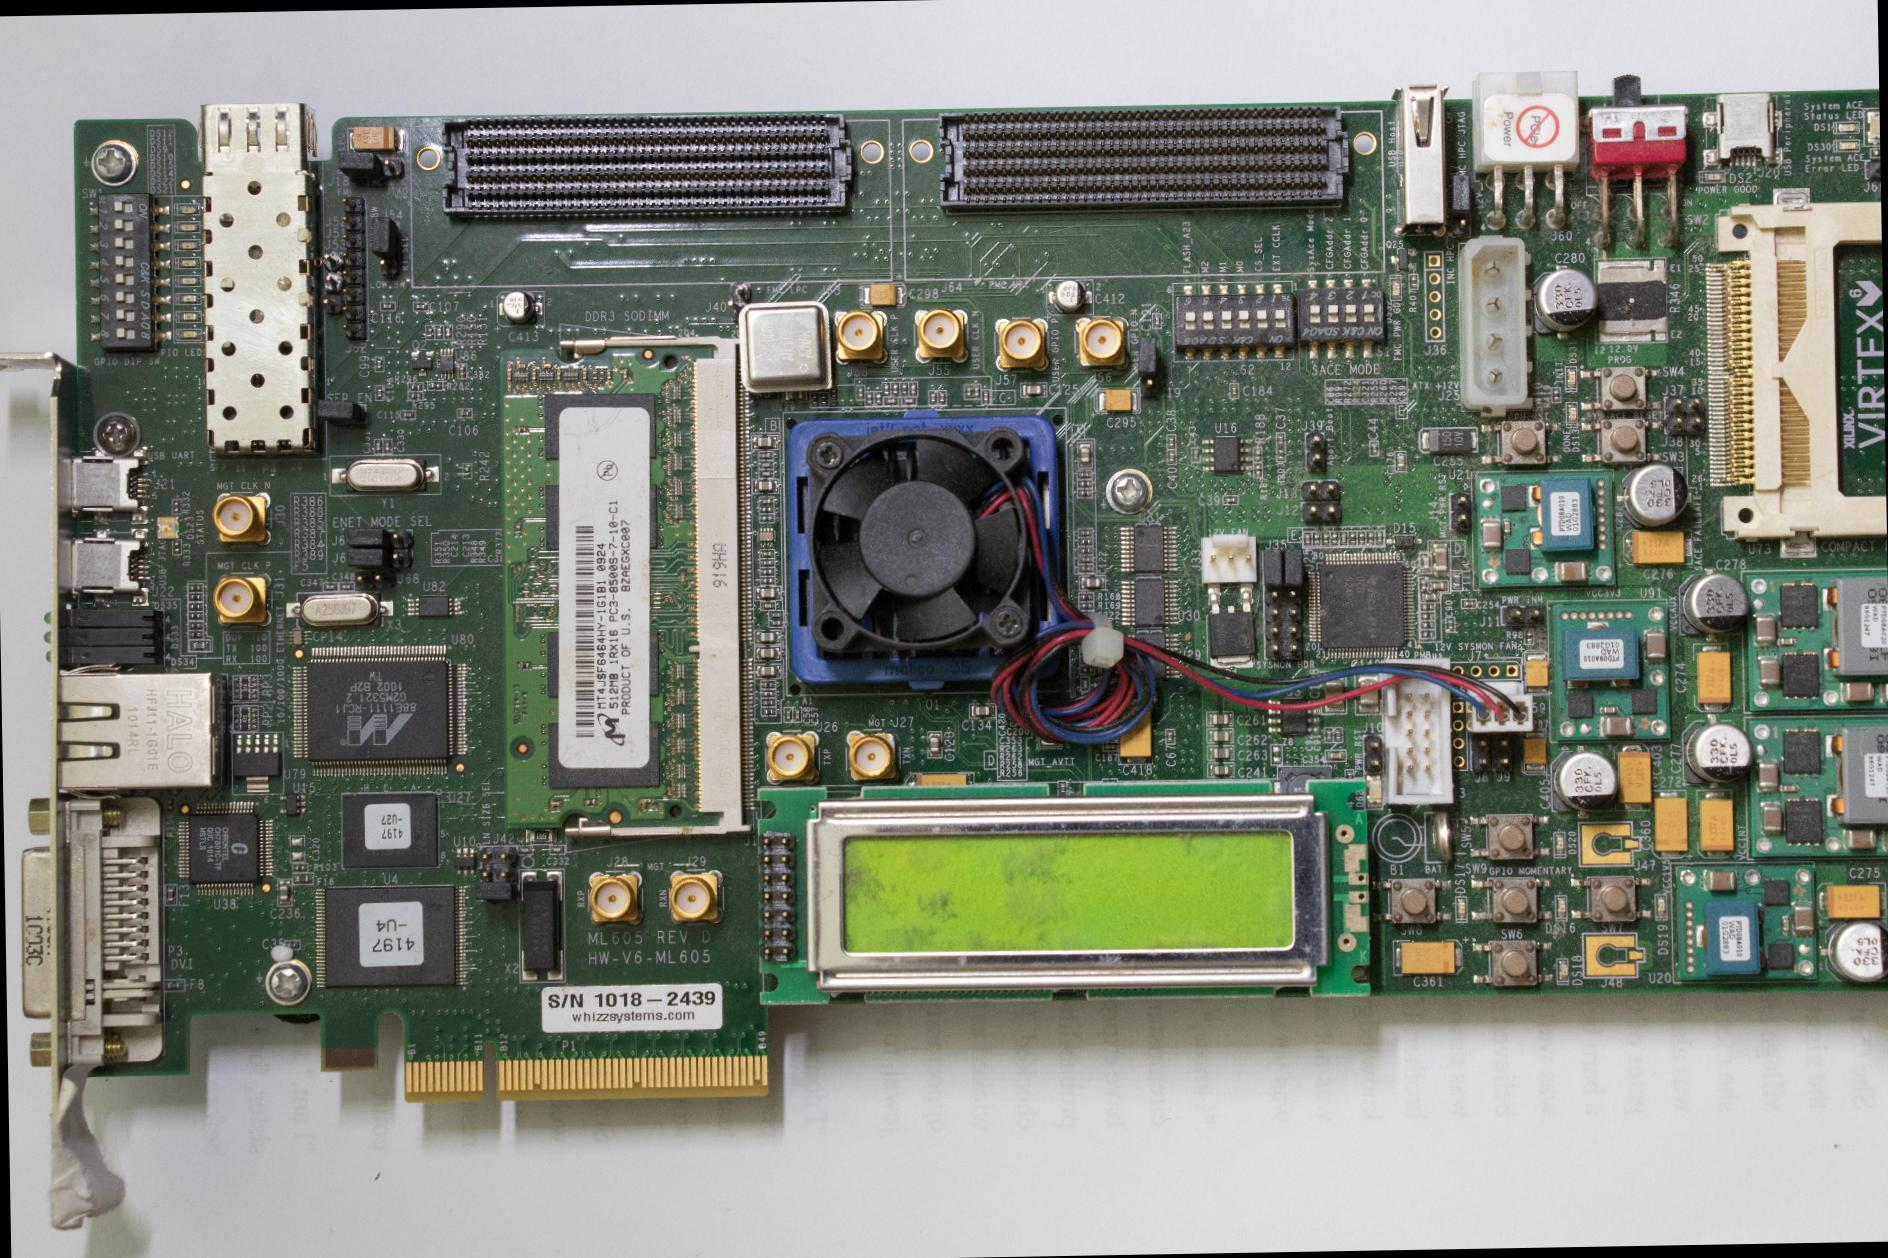Battery: (1369, 811, 1450, 864)
Button: (1568, 876, 1650, 922), (1468, 815, 1550, 860), (1480, 420, 1560, 466), (1472, 940, 1552, 986), (1580, 366, 1658, 410), (1580, 418, 1658, 462), (1470, 878, 1550, 920), (1378, 878, 1450, 922)
Capacitor: (1352, 668, 1381, 712), (1318, 671, 1346, 713), (1758, 800, 1782, 836), (1838, 680, 1876, 702), (1598, 715, 1634, 738), (1758, 760, 1782, 794), (1553, 560, 1589, 582), (1790, 900, 1812, 936), (1642, 630, 1665, 664), (1756, 654, 1779, 688), (1842, 826, 1876, 849), (1752, 614, 1775, 647), (1479, 517, 1500, 552), (1703, 869, 1736, 890), (752, 662, 780, 680), (1067, 392, 1083, 420), (752, 585, 780, 601), (752, 629, 780, 645), (752, 645, 779, 661), (276, 878, 291, 906), (1206, 710, 1232, 726), (750, 435, 777, 450), (750, 478, 778, 492), (1020, 382, 1046, 397), (1078, 576, 1104, 590), (1206, 728, 1232, 742), (926, 728, 940, 754), (1206, 746, 1232, 760), (1206, 762, 1232, 776), (967, 705, 994, 718), (1392, 449, 1406, 471), (288, 630, 304, 646), (1324, 749, 1345, 761), (372, 355, 384, 373), (782, 391, 806, 400), (454, 407, 472, 418), (1879, 681, 1887, 705), (1613, 698, 1632, 708), (1780, 915, 1789, 936), (1879, 828, 1887, 851), (1228, 382, 1238, 400), (1780, 783, 1800, 792), (1100, 741, 1116, 752), (378, 300, 395, 310), (410, 301, 427, 311), (382, 437, 392, 454), (1368, 440, 1378, 457), (1458, 599, 1475, 609), (782, 705, 792, 722), (1776, 637, 1794, 646), (1274, 431, 1284, 447), (338, 582, 354, 592), (1444, 616, 1454, 632), (1164, 728, 1174, 744), (549, 845, 565, 855), (1151, 312, 1160, 329), (283, 940, 300, 949), (1166, 435, 1176, 450), (1192, 444, 1202, 459), (1322, 728, 1332, 743), (456, 362, 465, 378), (398, 410, 414, 419), (373, 438, 382, 454), (1383, 529, 1392, 545), (374, 386, 384, 400), (1166, 450, 1176, 464), (1332, 728, 1342, 742), (792, 705, 800, 722), (1338, 531, 1346, 547), (322, 582, 336, 591), (518, 845, 532, 854)
Clock: (738, 299, 830, 392), (517, 868, 563, 984), (329, 454, 440, 495), (284, 590, 392, 626)
Connector: (1706, 186, 1886, 560), (406, 107, 888, 225), (901, 100, 1378, 216), (3, 790, 181, 1076), (198, 102, 320, 458), (48, 670, 228, 790), (938, 536, 1052, 700), (1458, 234, 1534, 418), (1378, 665, 1450, 811), (1395, 82, 1447, 237), (70, 528, 148, 607), (70, 446, 147, 526), (1701, 92, 1780, 164), (757, 830, 794, 964), (338, 195, 368, 341), (1201, 534, 1255, 604), (1466, 680, 1531, 732), (210, 492, 270, 547), (212, 572, 272, 627), (912, 308, 968, 364), (1072, 315, 1128, 371), (832, 310, 888, 365), (668, 868, 721, 926), (993, 316, 1048, 371), (764, 730, 818, 786), (586, 870, 640, 926), (846, 728, 898, 782), (1262, 589, 1300, 659), (1422, 250, 1444, 341), (1298, 480, 1340, 521), (1468, 732, 1512, 771), (1662, 395, 1703, 433), (478, 846, 518, 880), (1449, 695, 1465, 771), (1450, 664, 1521, 680), (388, 530, 412, 570), (1450, 497, 1474, 536), (1501, 605, 1543, 627), (1360, 734, 1381, 776), (1303, 432, 1325, 471), (350, 571, 392, 591), (728, 282, 750, 318), (320, 290, 342, 314), (318, 249, 342, 270), (321, 270, 343, 292), (379, 156, 401, 177), (1138, 376, 1158, 397), (376, 257, 398, 276), (1864, 158, 1879, 180)
Diode: (1386, 534, 1422, 548)
Display: (754, 776, 1374, 1008)
Electrolytic Capacitor: (1682, 713, 1752, 788), (1530, 265, 1599, 339), (1679, 570, 1748, 635), (1818, 919, 1887, 983), (1622, 465, 1690, 528), (1551, 749, 1616, 814), (1690, 642, 1732, 712), (1817, 882, 1885, 920), (1392, 940, 1462, 976), (1614, 742, 1651, 810), (1651, 790, 1688, 858), (1696, 790, 1733, 857), (1622, 528, 1690, 564), (1115, 699, 1151, 764), (1048, 276, 1106, 315), (496, 291, 543, 326), (347, 124, 402, 152), (1425, 426, 1483, 452), (1522, 649, 1548, 694), (1520, 730, 1546, 775), (1094, 388, 1138, 414), (407, 314, 454, 338)
Ferrite Bead: (163, 883, 176, 906), (292, 873, 314, 884), (162, 980, 184, 991), (188, 640, 208, 650)
IC: (784, 419, 1070, 706), (293, 646, 468, 776), (312, 886, 469, 988), (1306, 552, 1413, 657), (340, 790, 439, 868), (1822, 574, 1887, 678), (1829, 723, 1887, 828), (1699, 742, 1761, 821), (230, 730, 282, 794), (1118, 524, 1176, 573), (1120, 576, 1177, 625), (1124, 632, 1180, 681), (1778, 582, 1817, 632), (1266, 698, 1319, 734), (1200, 436, 1252, 472), (1782, 798, 1822, 844), (1780, 728, 1818, 772), (1782, 654, 1818, 700), (406, 594, 464, 618), (1761, 878, 1788, 906), (1566, 692, 1594, 718), (1767, 942, 1793, 970), (1501, 478, 1526, 506), (1630, 689, 1656, 715), (1504, 548, 1528, 574), (278, 794, 306, 816), (454, 848, 474, 875), (439, 348, 454, 379)
Jumper: (470, 880, 520, 905), (334, 152, 378, 180), (316, 399, 364, 424), (368, 216, 397, 255), (346, 526, 388, 550), (344, 547, 389, 569), (1450, 173, 1469, 214), (1138, 337, 1159, 374), (1282, 550, 1302, 588)
Led: (40, 606, 164, 668), (1862, 108, 1879, 147), (154, 516, 178, 540), (172, 236, 201, 254), (172, 202, 200, 216), (172, 220, 200, 234), (172, 256, 200, 270), (1552, 831, 1566, 858), (174, 274, 200, 288), (176, 309, 202, 323), (1453, 895, 1467, 921), (1564, 365, 1577, 392), (1555, 958, 1568, 985), (1552, 895, 1566, 920), (174, 328, 201, 340), (174, 292, 200, 304), (1389, 274, 1401, 300), (1653, 895, 1665, 920), (1833, 139, 1858, 151), (1699, 170, 1723, 182), (1832, 122, 1858, 132), (1566, 402, 1576, 426)
Pads: (403, 1055, 769, 1102), (1578, 820, 1640, 868), (1581, 930, 1644, 976), (287, 835, 304, 862), (1269, 744, 1281, 765)
Resistor Jumper: (232, 704, 258, 732), (230, 674, 257, 700), (670, 383, 682, 400), (562, 369, 577, 382), (672, 504, 684, 520), (671, 479, 682, 496), (674, 713, 685, 730), (537, 370, 552, 382), (670, 432, 682, 447), (671, 455, 683, 470), (676, 783, 688, 798), (670, 408, 681, 424), (674, 662, 684, 679), (512, 371, 527, 382), (674, 763, 685, 778), (674, 690, 684, 705), (675, 738, 685, 753)
Resistor Network: (524, 828, 554, 842), (1406, 273, 1418, 289), (1330, 530, 1340, 548), (442, 323, 452, 340), (1550, 386, 1560, 403), (1252, 446, 1262, 463), (165, 796, 175, 813), (186, 629, 204, 638), (407, 390, 423, 400), (187, 620, 203, 630), (1254, 480, 1263, 497), (461, 462, 471, 477), (424, 324, 433, 340), (426, 380, 442, 389), (171, 538, 180, 554), (1356, 526, 1364, 544), (291, 864, 307, 873), (1320, 531, 1328, 548), (186, 594, 203, 602), (186, 612, 203, 620), (1312, 532, 1320, 548), (186, 584, 202, 592), (186, 602, 202, 610), (1524, 628, 1532, 644), (1078, 592, 1093, 600), (434, 324, 441, 340), (408, 382, 422, 390), (1364, 530, 1371, 546), (171, 499, 178, 514), (1870, 148, 1879, 159), (1349, 532, 1356, 546), (1078, 602, 1092, 608)
Switch: (1702, 68, 1808, 246), (1172, 280, 1294, 361), (1295, 278, 1386, 358)
Transistor: (1206, 607, 1254, 668), (1387, 248, 1416, 270)
